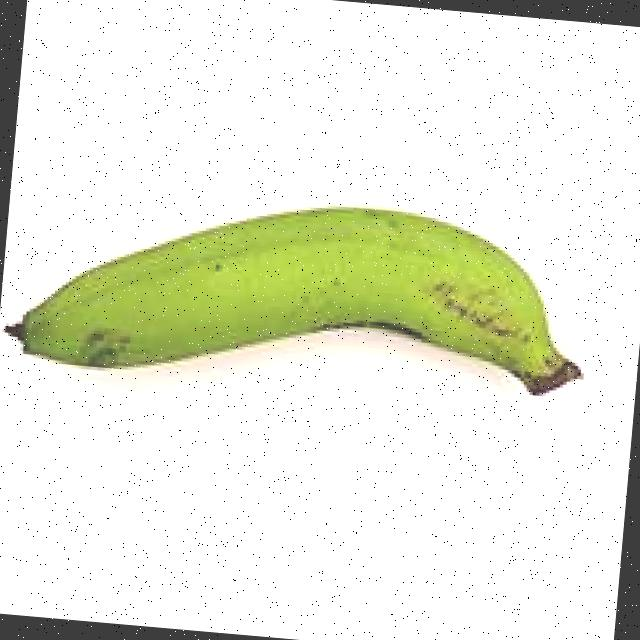Raw: (0, 141, 603, 449)
